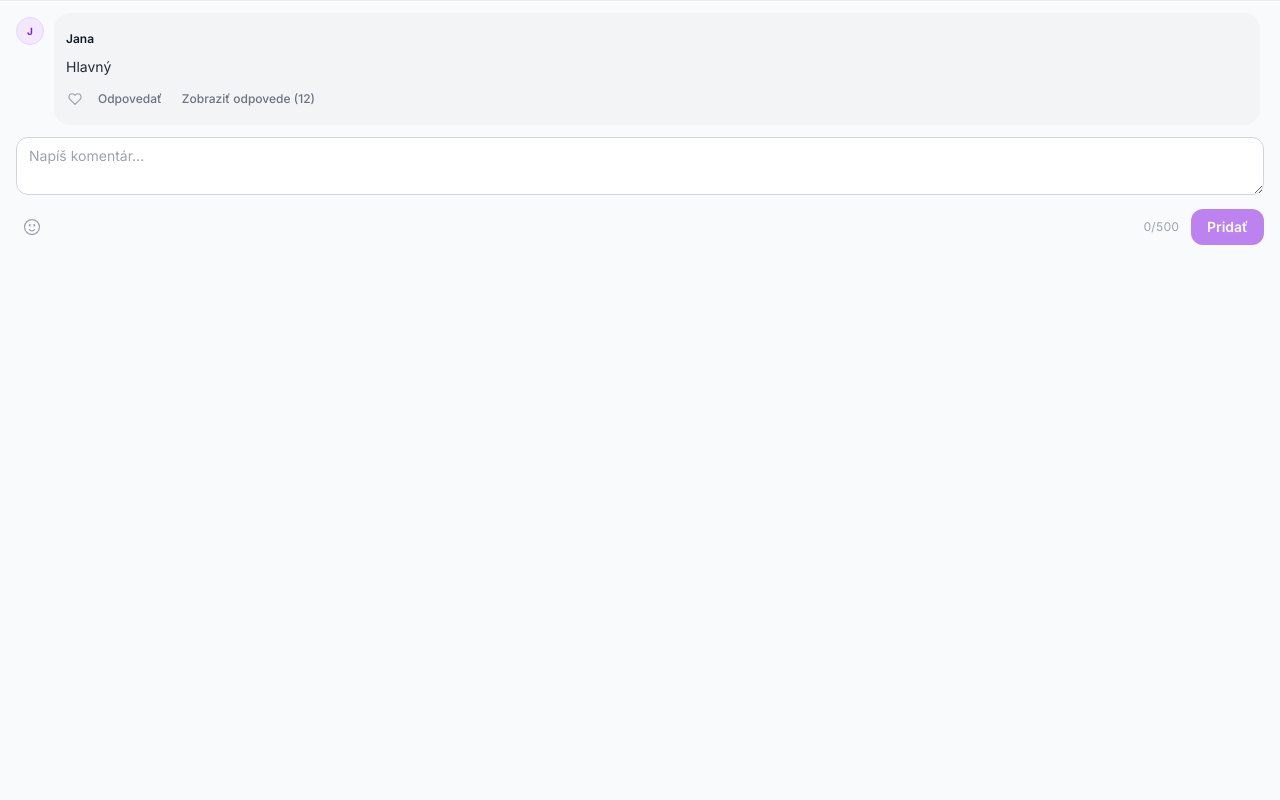
Test: donačítanie odpovedí › keeps loaded replies when polling brings only the preview
Expected: the text "Hlavný" is shown, [66,58,111,75]
Click the button with test id "feed-comment-toggle-replies-1": (248, 99) [176,81,321,117]
Wait 8050 ms
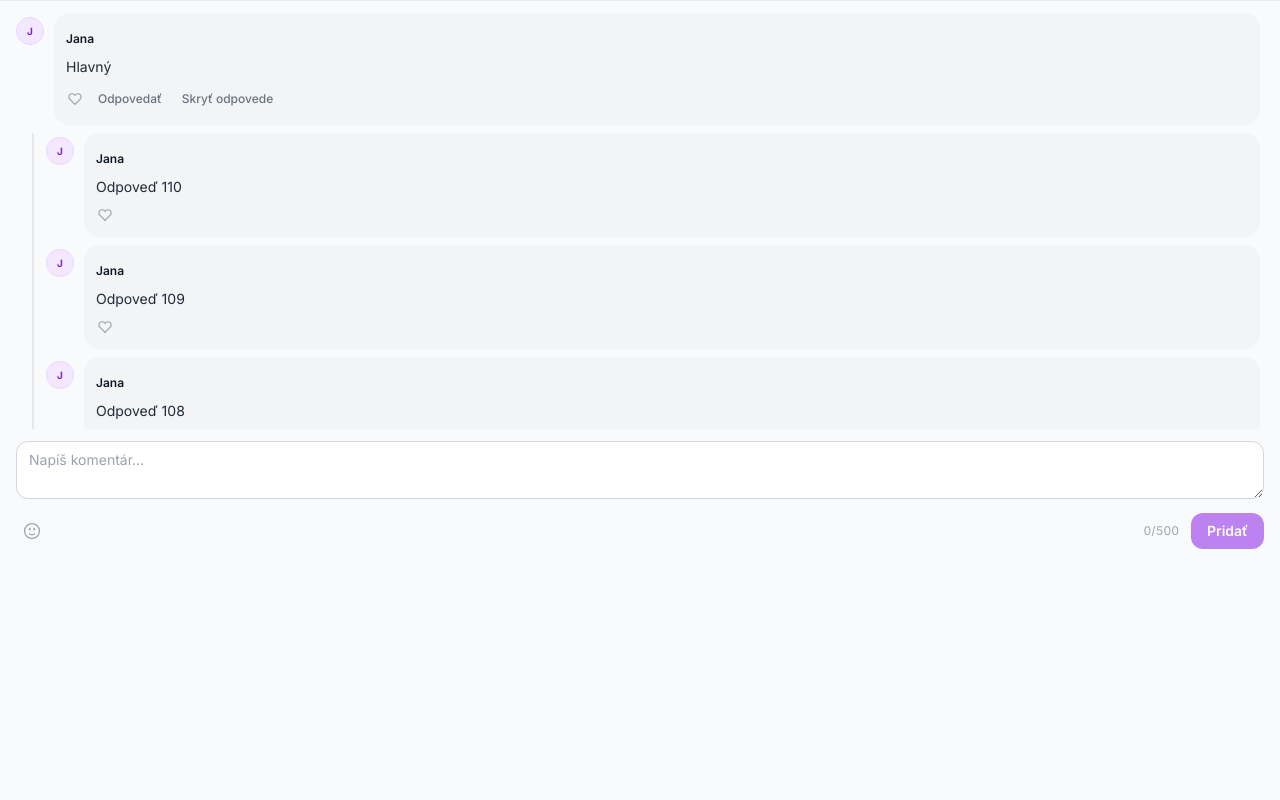
Expected: the text "Odpoveď 110" is shown, [96,178,182,195]
